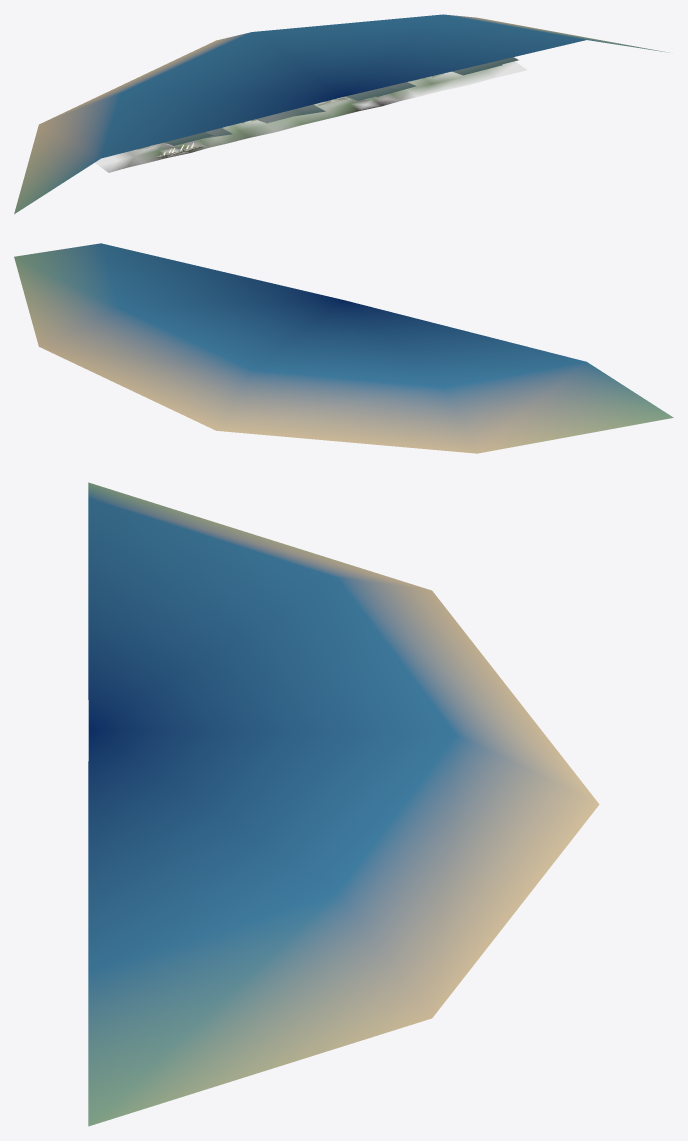
The model's file is Forest_12.fbx.
The picture shows the model from 3 angles, top to bottom: view 1: azimuth 30°, elevation 25°; view 2: azimuth 150°, elevation 25°; view 3: azimuth 270°, elevation 25°; orthographic projection. The views are drawn at different scales.
Visible parts, largest first — view 1: Bg_01_A, Bg_01_A1, Cloud_01; view 2: Bg_01_A; view 3: Bg_01_A.
Boxes of the visible parts, x1,y1,x2,y2 form: Bg_01_A: (14,14,668,214); Bg_01_A1: (95,61,526,172); Cloud_01: (164,57,518,145); Bg_01_A: (14,243,673,453); Bg_01_A: (88,482,599,1126).
Bounding box in the file's own units: 8566 × 462 × 2873.
